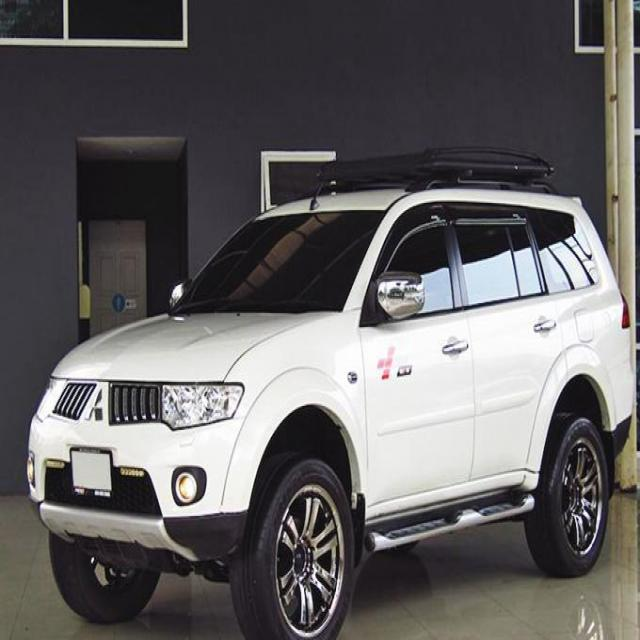back_left_door: (444, 201, 568, 479)
front_bumper: (27, 383, 246, 560)
front_glass: (169, 209, 390, 316)
front_left_door: (360, 203, 475, 506)
front_left_light: (159, 381, 246, 430)
front_right_light: (38, 379, 69, 426)
hood: (50, 312, 325, 385)
left_mirror: (376, 271, 425, 328)
wheel: (47, 416, 611, 639)
